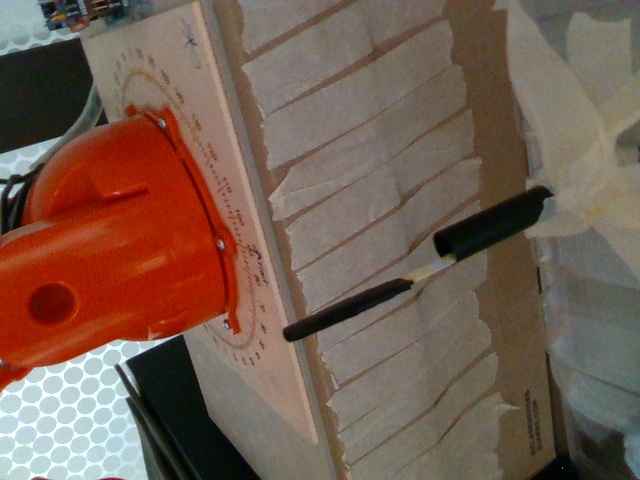test_strip: (280, 258, 455, 344)
